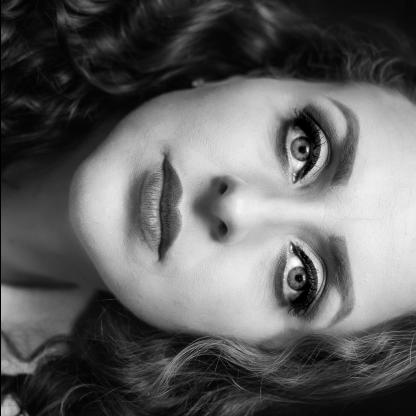Eye: (270, 109, 330, 188), (270, 237, 326, 316)
Mouth: (134, 148, 187, 268)
Nose: (200, 175, 314, 243)
